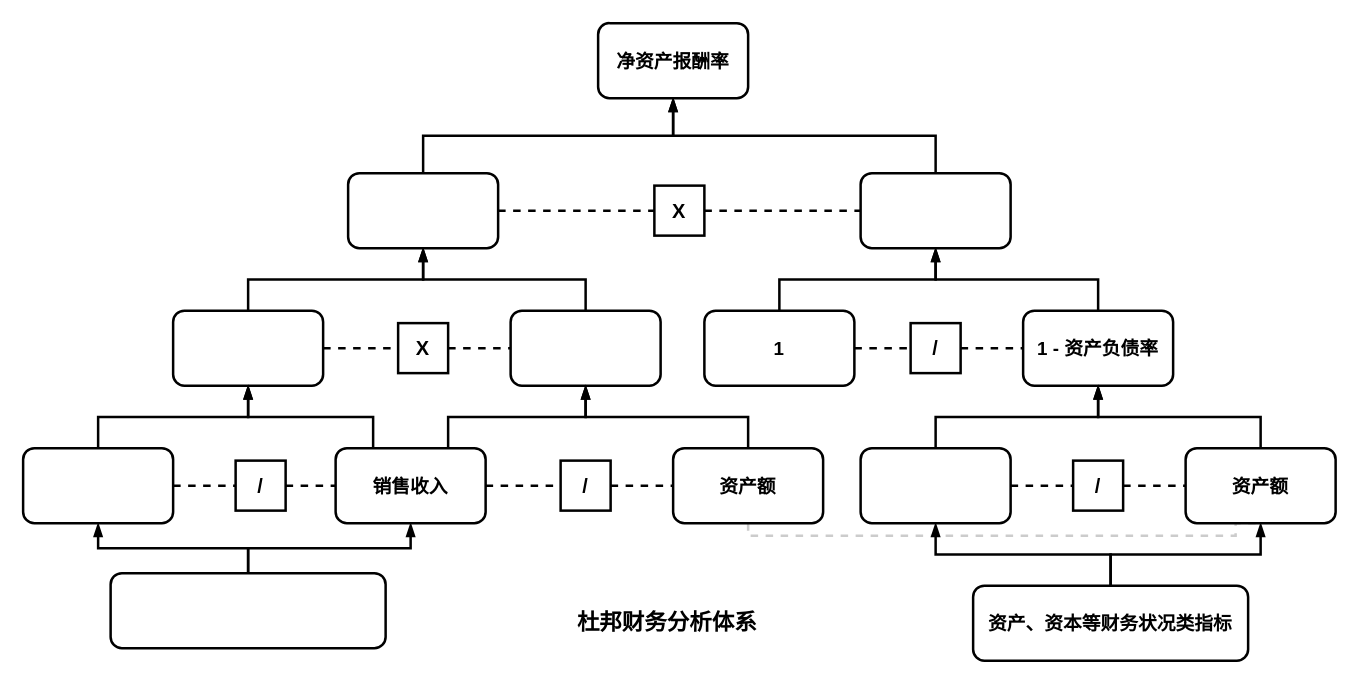
Some shapes in this 1358 by 683 pixel diagram are drawn without their labels. Here are the shapes that lost their labels. From the top down, the centre of each, then its label:
the point at 422,210: 总资产报酬率
the point at 935,210: 权益乘数
the point at 247,347: 销售利润率
the point at 585,347: 资产周转率
the point at 97,485: 净利润
the point at 935,485: 负债率
the point at 247,610: 收入、成本等损益类指标
